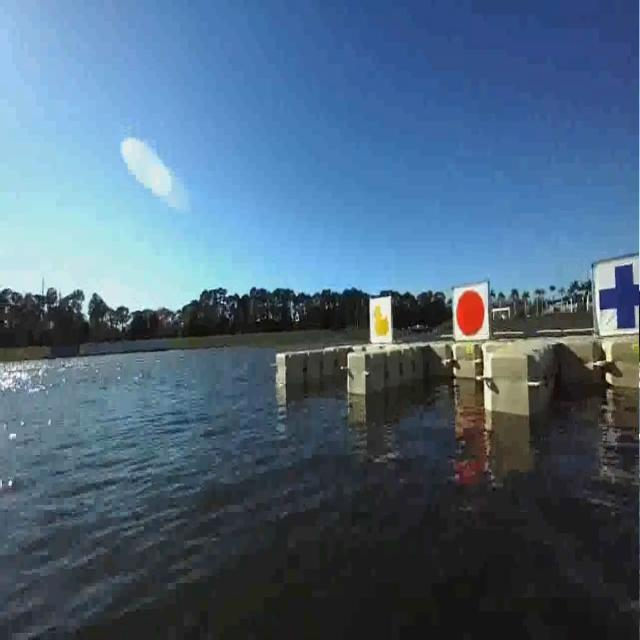blue-cross: (589, 250, 639, 338)
red-dot: (449, 274, 492, 350)
yellow-duck: (369, 291, 392, 345)
